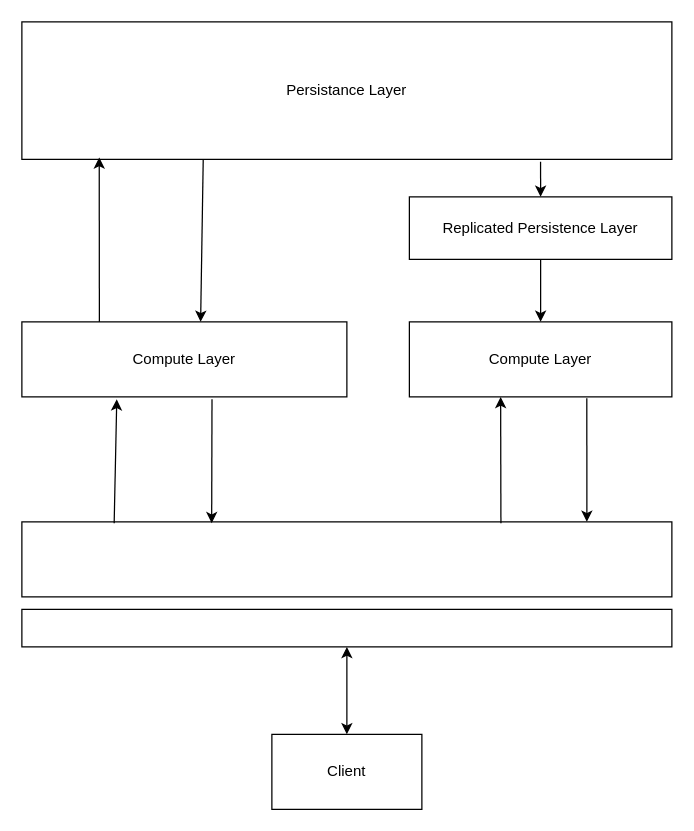
The diagram is 694 pixels wide and 831 high, and some of its shapes have lost their labels. The centre of each missing label's shape, as x and y in pixels:
Application Layer: [346,559]
Authentication Layer: [346,627]
